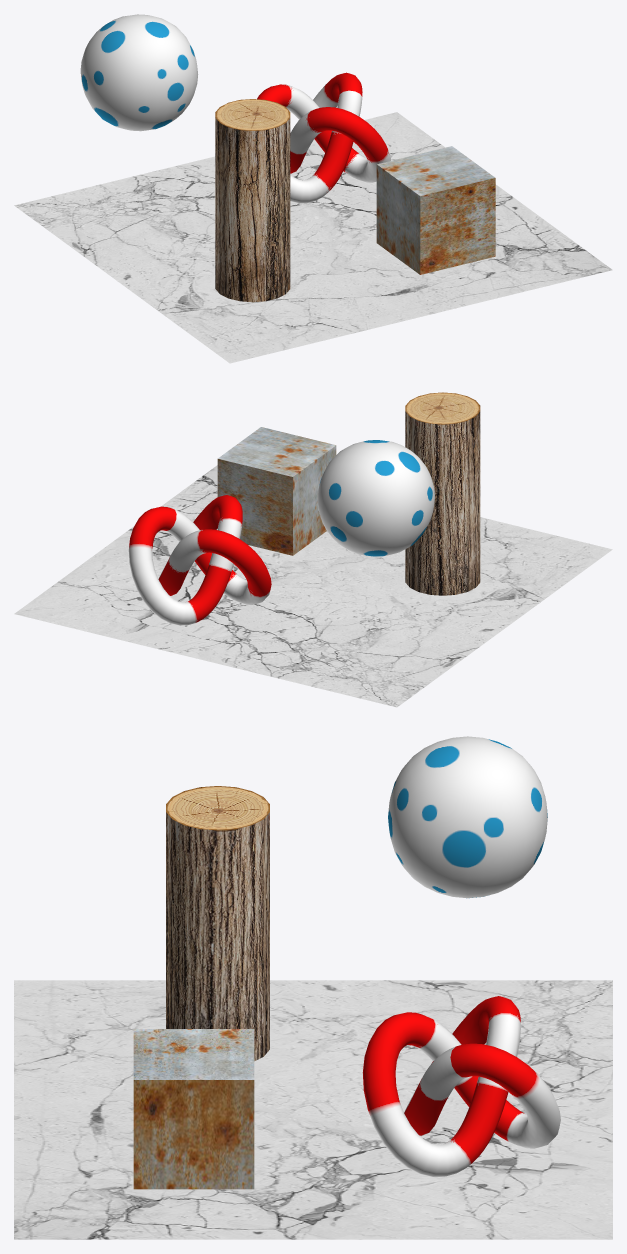
The model's file is Martin_test_1.obj.
The picture shows the model from 3 angles, top to bottom: view 1: azimuth 30°, elevation 25°; view 2: azimuth 150°, elevation 25°; view 3: azimuth 270°, elevation 25°; orthographic projection. The views are drawn at different scales.
Parts seen in each view (by area): view 1: Plane001, Cylinder001, Box001, Box002, Torus_Knot001; view 2: Plane001, Cylinder001, Torus_Knot001, Box002, Box001; view 3: Plane001, Cylinder001, Torus_Knot001, Box002, Box001.
Boxes of the visible parts, x1=… form: Plane001: x1=14, y1=112, x2=612, y2=363; Cylinder001: x1=215, y1=99, x2=290, y2=302; Box001: x1=376, y1=146, x2=495, y2=274; Box002: x1=80, y1=14, x2=198, y2=131; Torus_Knot001: x1=257, y1=72, x2=390, y2=202; Plane001: x1=14, y1=465, x2=612, y2=707; Cylinder001: x1=405, y1=392, x2=480, y2=595; Torus_Knot001: x1=128, y1=495, x2=271, y2=625; Box002: x1=317, y1=440, x2=434, y2=556; Box001: x1=217, y1=427, x2=336, y2=555; Plane001: x1=14, y1=980, x2=612, y2=1239; Cylinder001: x1=166, y1=786, x2=269, y2=1061; Torus_Knot001: x1=362, y1=996, x2=560, y2=1176; Box002: x1=388, y1=736, x2=547, y2=898; Box001: x1=133, y1=1029, x2=254, y2=1189.
Bounding box in the file's own units: 76.28 × 39.08 × 74.48.
